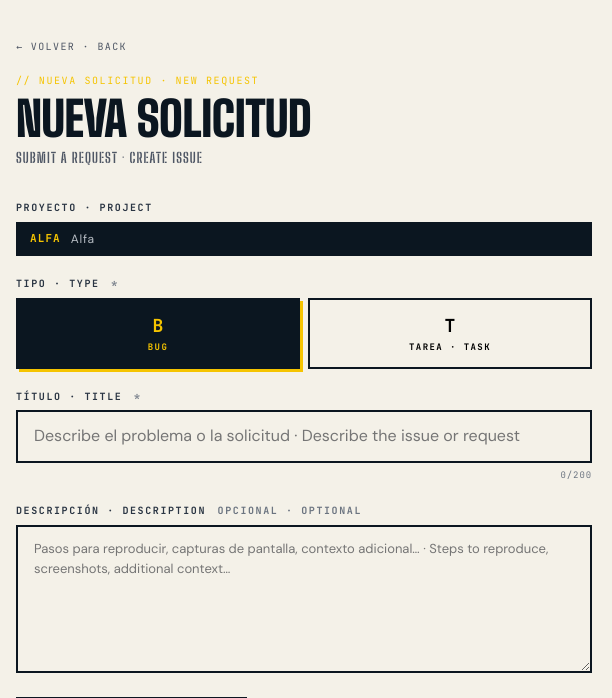
Test: PortalRequestPage (coverage) › shows the "Enviando · Sending…" label while the mutation is pending
The image size is (612, 698).
Check: the text "ALFA" is shown, box [30,230,61,248]
Type "It broke" into the field labelled "Título · Title *" at (304, 437), box [16,410,592,463]
(page scrolled)
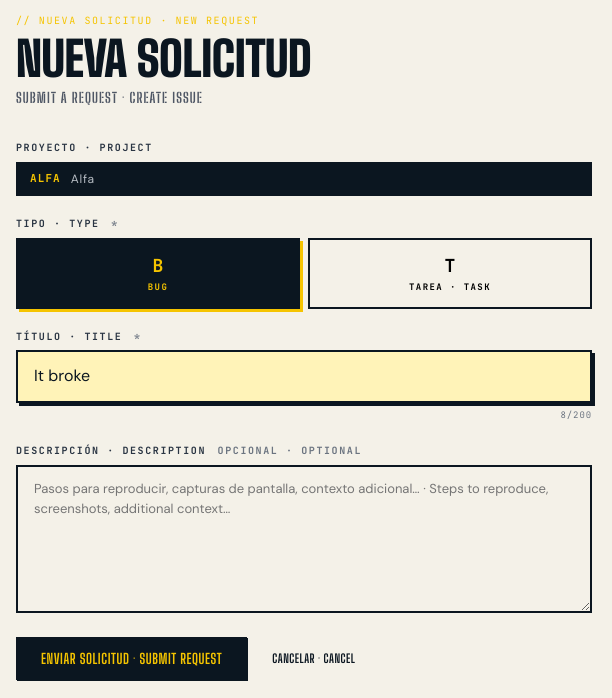
Click the button "Enviar solicitud · Submit request" at (132, 659), box [16,637,247,680]
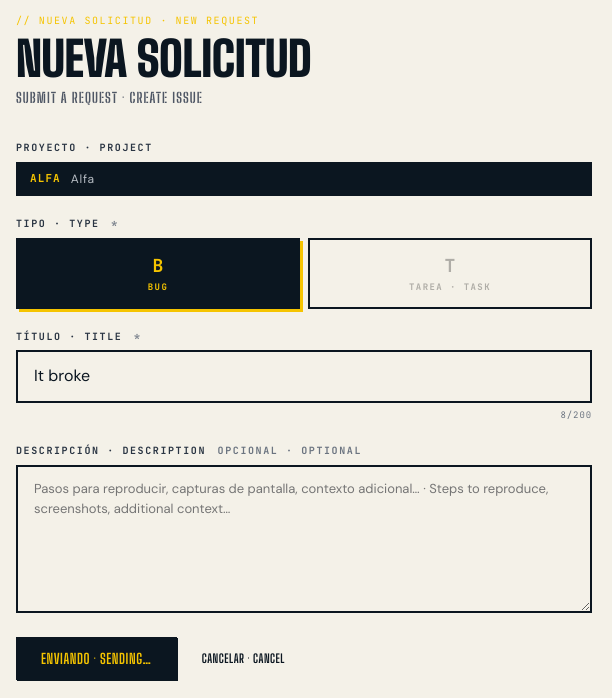
Check: the button "Enviando · Sending…" is shown, box [16,637,177,680]
